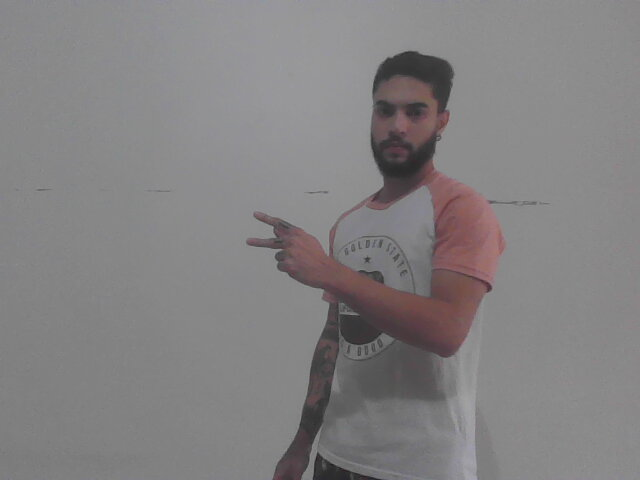p: (239, 199, 337, 293)
